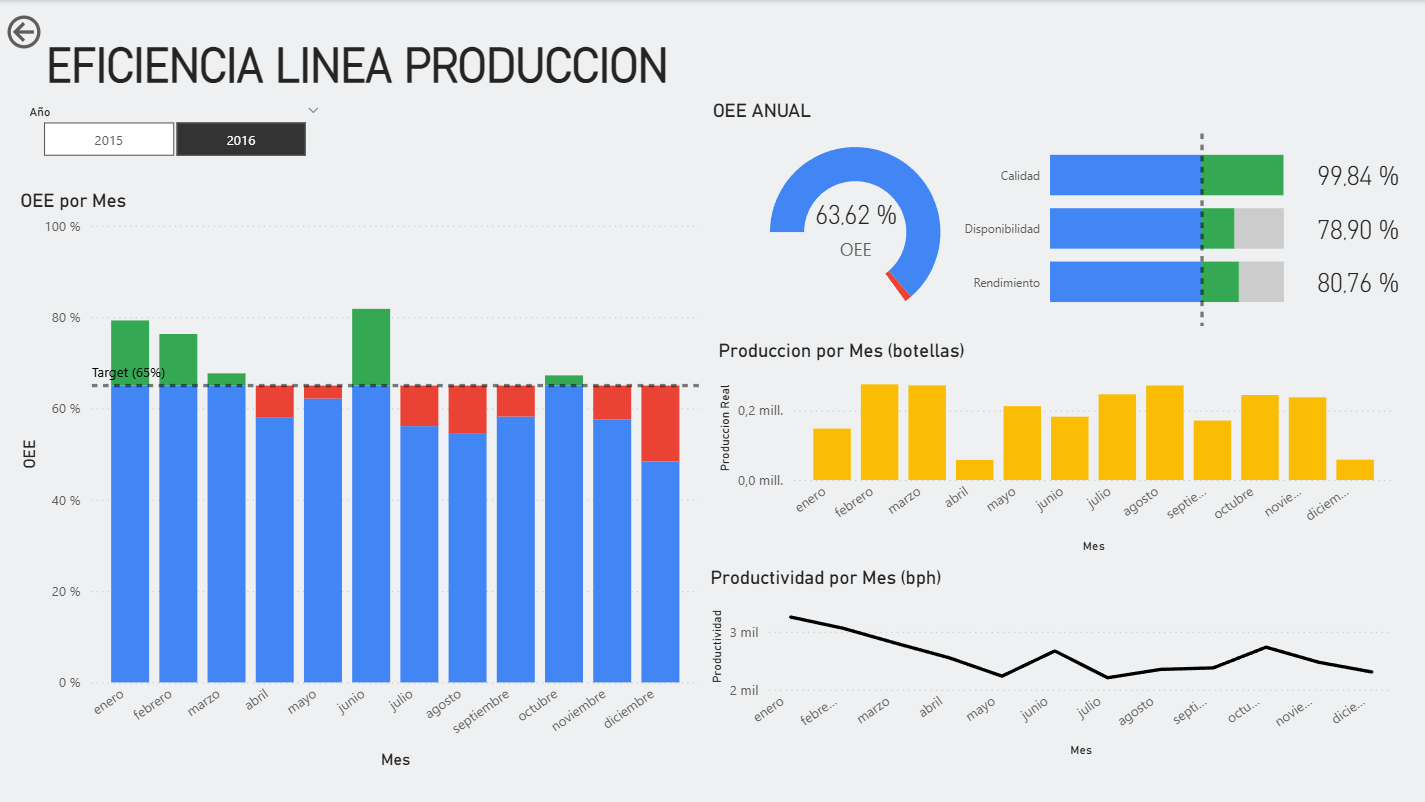

The page's visual inventory and layout, read from the dashboard file:
{"tool":"powerbi","page":{"name":"ANUAL","canvas":[1280,720],"ordinal":1},"visuals":[{"type":"slicer","fields":{"Values":["Tabla_Calendario_d.Fecha.Variación.Jerarquía de fechas.Año"]},"box":[13.8,89.1,285.3,58.3],"z":0},{"type":"card","title":"RENDIMIENTO","fields":{"Values":["DAX.RENDIMIENTO"]},"box":[1158.2,234.6,122.1,37.1],"z":0,"group":"g1"},{"type":"card","title":"DISPONIBILIDAD","fields":{"Values":["DAX.DISPONIBILIDAD"]},"box":[1158.2,187,122.1,36.2],"z":1000,"group":"g1"},{"type":"columnChart","title":"OEE por Mes","fields":{"Y":["DAX.OEE Base","DAX.OEE Superado","DAX.OEE Faltante"],"Category":["Tabla_Calendario_d.Fecha.Variación.Jerarquía de fechas.Mes"]},"box":[13.8,169.7,619.3,524.9],"z":1000},{"type":"card","title":"CALIDAD","fields":{"Values":["DAX.CALIDAD"]},"box":[1158.2,137.4,122.1,39.1],"z":2000,"group":"g1"},{"type":"lineChart","title":"Productividad por Mes (bph)","fields":{"Y":["DAX.Productividad"],"Category":["Tabla_Calendario_d.Fecha.Variación.Jerarquía de fechas.Mes"]},"box":[633.1,508,622.5,176],"z":2000},{"type":"donutChart","title":"OEE ANUAL","fields":{"Category":["Anillo OEE.Sección"],"Y":["DAX.Valor Anillo"]},"box":[640.5,89.1,255.3,215.3],"z":3000,"group":"g1"},{"type":"columnChart","title":"Produccion por Mes (botellas)","fields":{"Category":["Tabla_Calendario_d.Fecha.Variación.Jerarquía de fechas.Mes"],"Y":["DAX.Produccion Real"]},"box":[640.1,304.3,615.9,196.6],"z":3000},{"type":"card","title":"OEE","fields":{"Values":["DAX.OEE"]},"box":[721.2,169.6,94.9,65],"z":4000,"group":"g1"},{"type":"group","id":"g1","title":"Grupo 1","box":[640.5,89.1,639.5,215.3],"z":4000},{"type":"barChart","fields":{"Y":["DAX.Valor Verde","DAX.Valor Rojo","DAX.Indicador Superado","DAX.Indicador vacio"],"Category":["Indicadores.Nombre"]},"box":[855.3,107,303,190.5],"z":5000,"group":"g1"},{"type":"textbox","box":[36.8,28.7,1242.5,72.7],"z":5000},{"type":"actionButton","box":[1.8,9,41.3,39.5],"z":6000}]}

Visuals, with their boxes in screenshot pixels (x1, y1, x2, y2), scaled from the page's 1280x720 canvas onto the 1425x802 screenshot:
slicer - Tabla_Calendario_d.Fecha.Variación.Jerarquía de fechas.Año: bbox=(15, 99, 333, 164)
"RENDIMIENTO" card: bbox=(1289, 261, 1424, 303)
"DISPONIBILIDAD" card: bbox=(1289, 208, 1424, 249)
"OEE por Mes" columnChart: bbox=(15, 189, 705, 774)
"CALIDAD" card: bbox=(1289, 153, 1424, 197)
"Productividad por Mes (bph)" lineChart: bbox=(705, 566, 1398, 762)
"OEE ANUAL" donutChart: bbox=(713, 99, 997, 339)
"Produccion por Mes (botellas)" columnChart: bbox=(713, 339, 1398, 558)
"OEE" card: bbox=(803, 189, 909, 261)
"Grupo 1" group: bbox=(713, 99, 1424, 339)
barChart - DAX.Valor Verde x DAX.Valor Rojo: bbox=(952, 119, 1290, 331)
textbox: bbox=(41, 32, 1424, 113)
actionButton: bbox=(2, 10, 48, 54)
